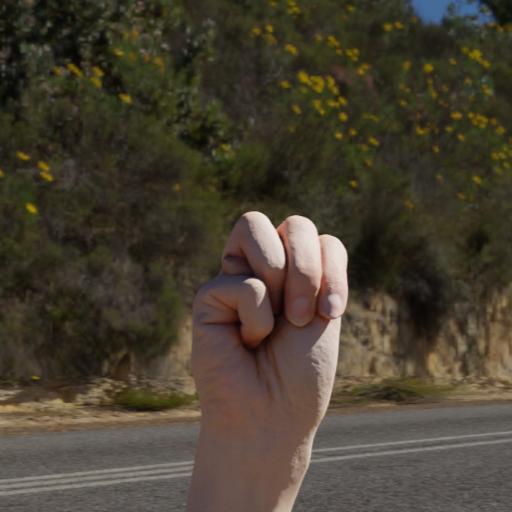M: (139, 177, 413, 453)
